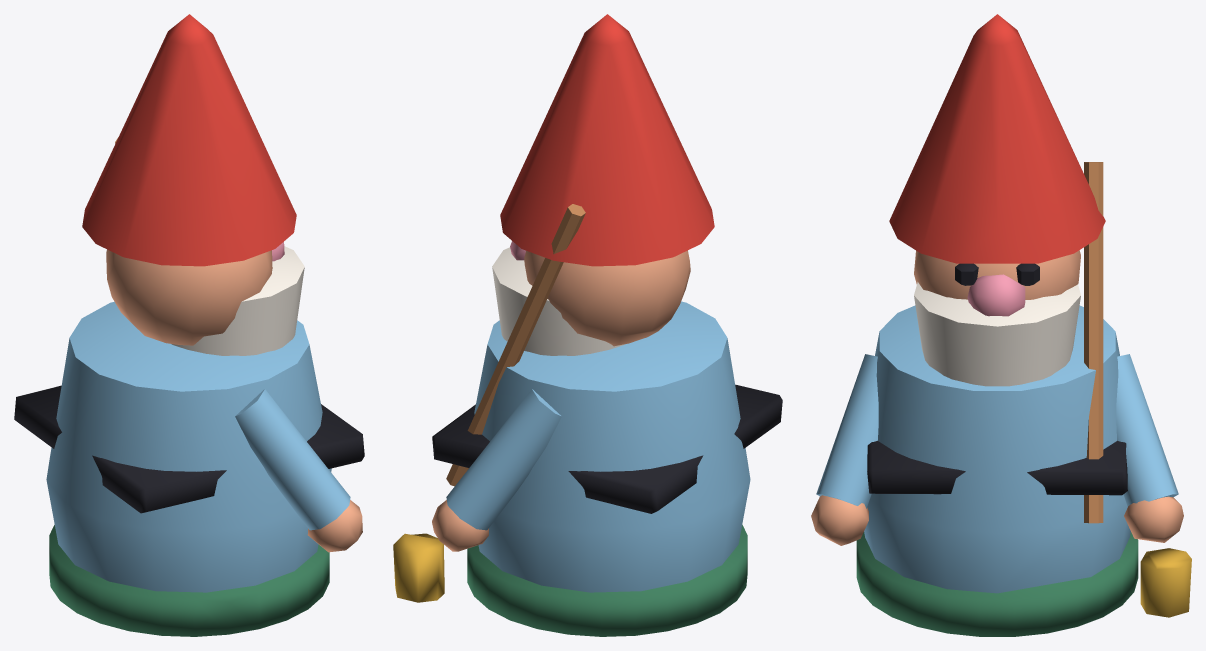
File: gnome.glb
3 renders of one model, left to right at view 1: azimuth 30°, elevation 25°; view 2: azimuth 150°, elevation 25°; view 3: azimuth 270°, elevation 25°, orthographic.
Parts seen in each view (by area): view 1: gnome; view 2: gnome; view 3: gnome.
Boxes of the visible parts, bbox=[...] form: gnome: bbox=[14, 14, 364, 636]; gnome: bbox=[393, 14, 782, 636]; gnome: bbox=[811, 14, 1191, 636].
Size of the model in its own units: 0.2415 by 0.5171 by 0.3166.
1 material, 1 textured.
